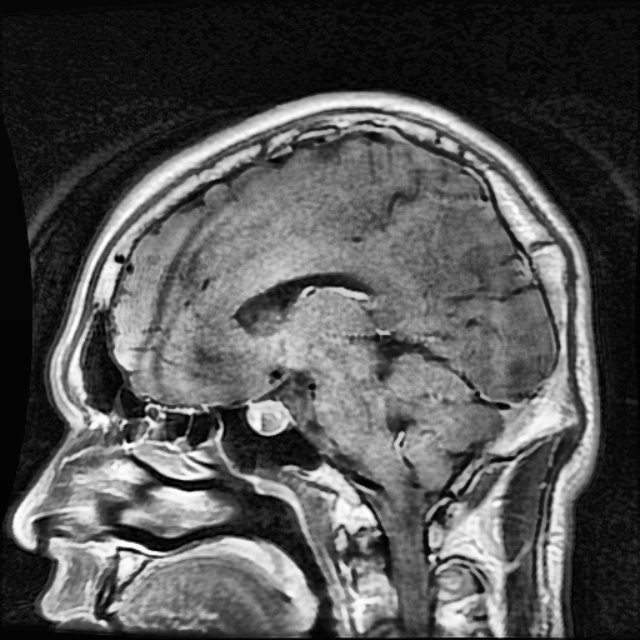Pituitary: (245, 402, 289, 434)
